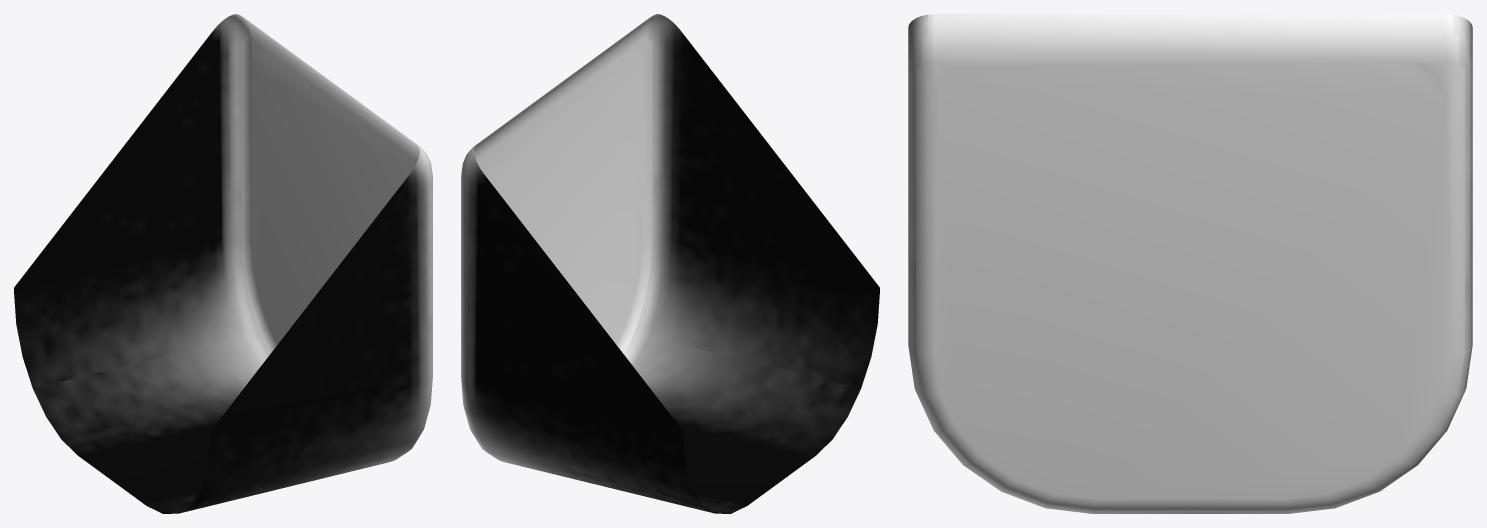
The model's file is edge.glb.
3 renders of one model, left to right at view 1: azimuth 30°, elevation 25°; view 2: azimuth 150°, elevation 25°; view 3: azimuth 270°, elevation 25°, orthographic. The views are drawn at different scales.
Visible parts, largest first — view 1: Edge Cut; view 2: Edge Cut; view 3: Edge Cut.
Part boxes in pixels (box(x1,y1,x2,y2)): Edge Cut: box(14, 14, 432, 513); Edge Cut: box(461, 14, 879, 513); Edge Cut: box(908, 14, 1472, 513).
Bounding box in the file's own units: 0.6738 × 0.9773 × 1.
Materials: 1 (1 with a texture image).
